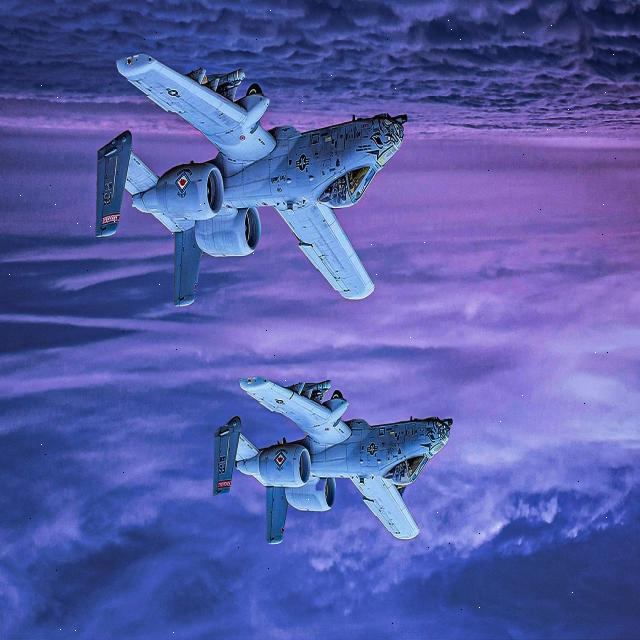A10: (72, 34, 418, 334), (199, 358, 460, 602)
